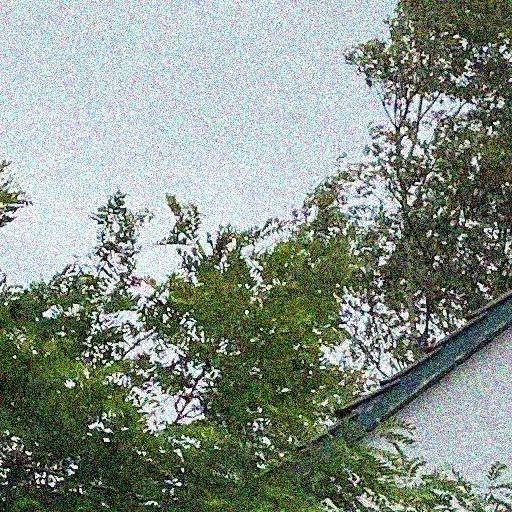tree: (1, 159, 512, 512), (338, 1, 512, 379)
